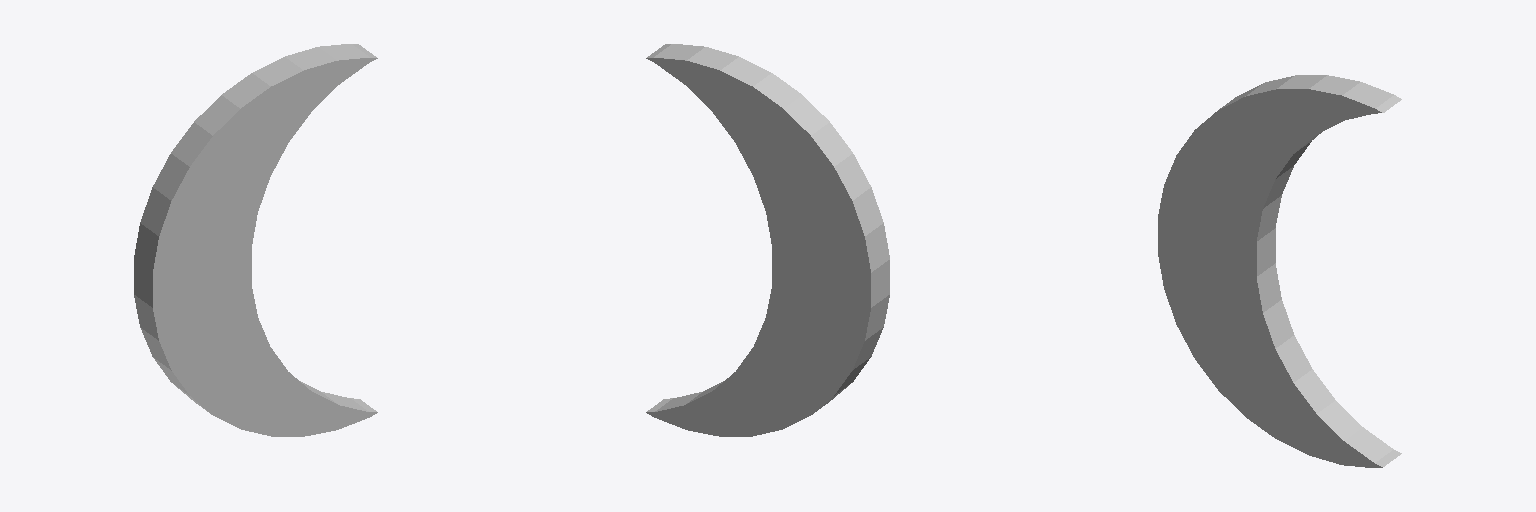
File: moon.obj
The picture shows the model from 3 angles: view 1: azimuth 30°, elevation 25°; view 2: azimuth 150°, elevation 25°; view 3: azimuth 330°, elevation 25°; orthographic projection.
Visible parts, largest first — view 1: Boole.1; view 2: Boole.1; view 3: Boole.1.
Part boxes in pixels (left/top/right/bottom): Boole.1: left=134, top=44, right=377, bottom=436; Boole.1: left=646, top=44, right=889, bottom=436; Boole.1: left=1158, top=75, right=1401, bottom=467.
Bounding box in the file's own units: 159 × 249 × 23.22.